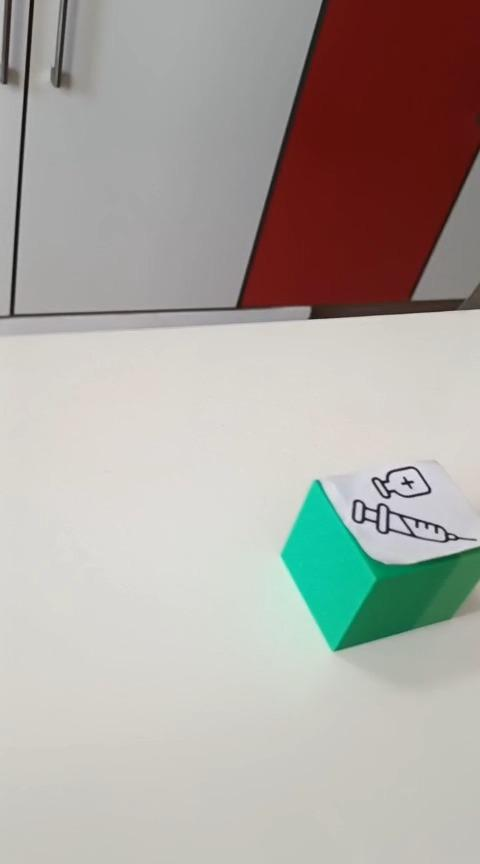antiseptic cream: (279, 457, 478, 651)
